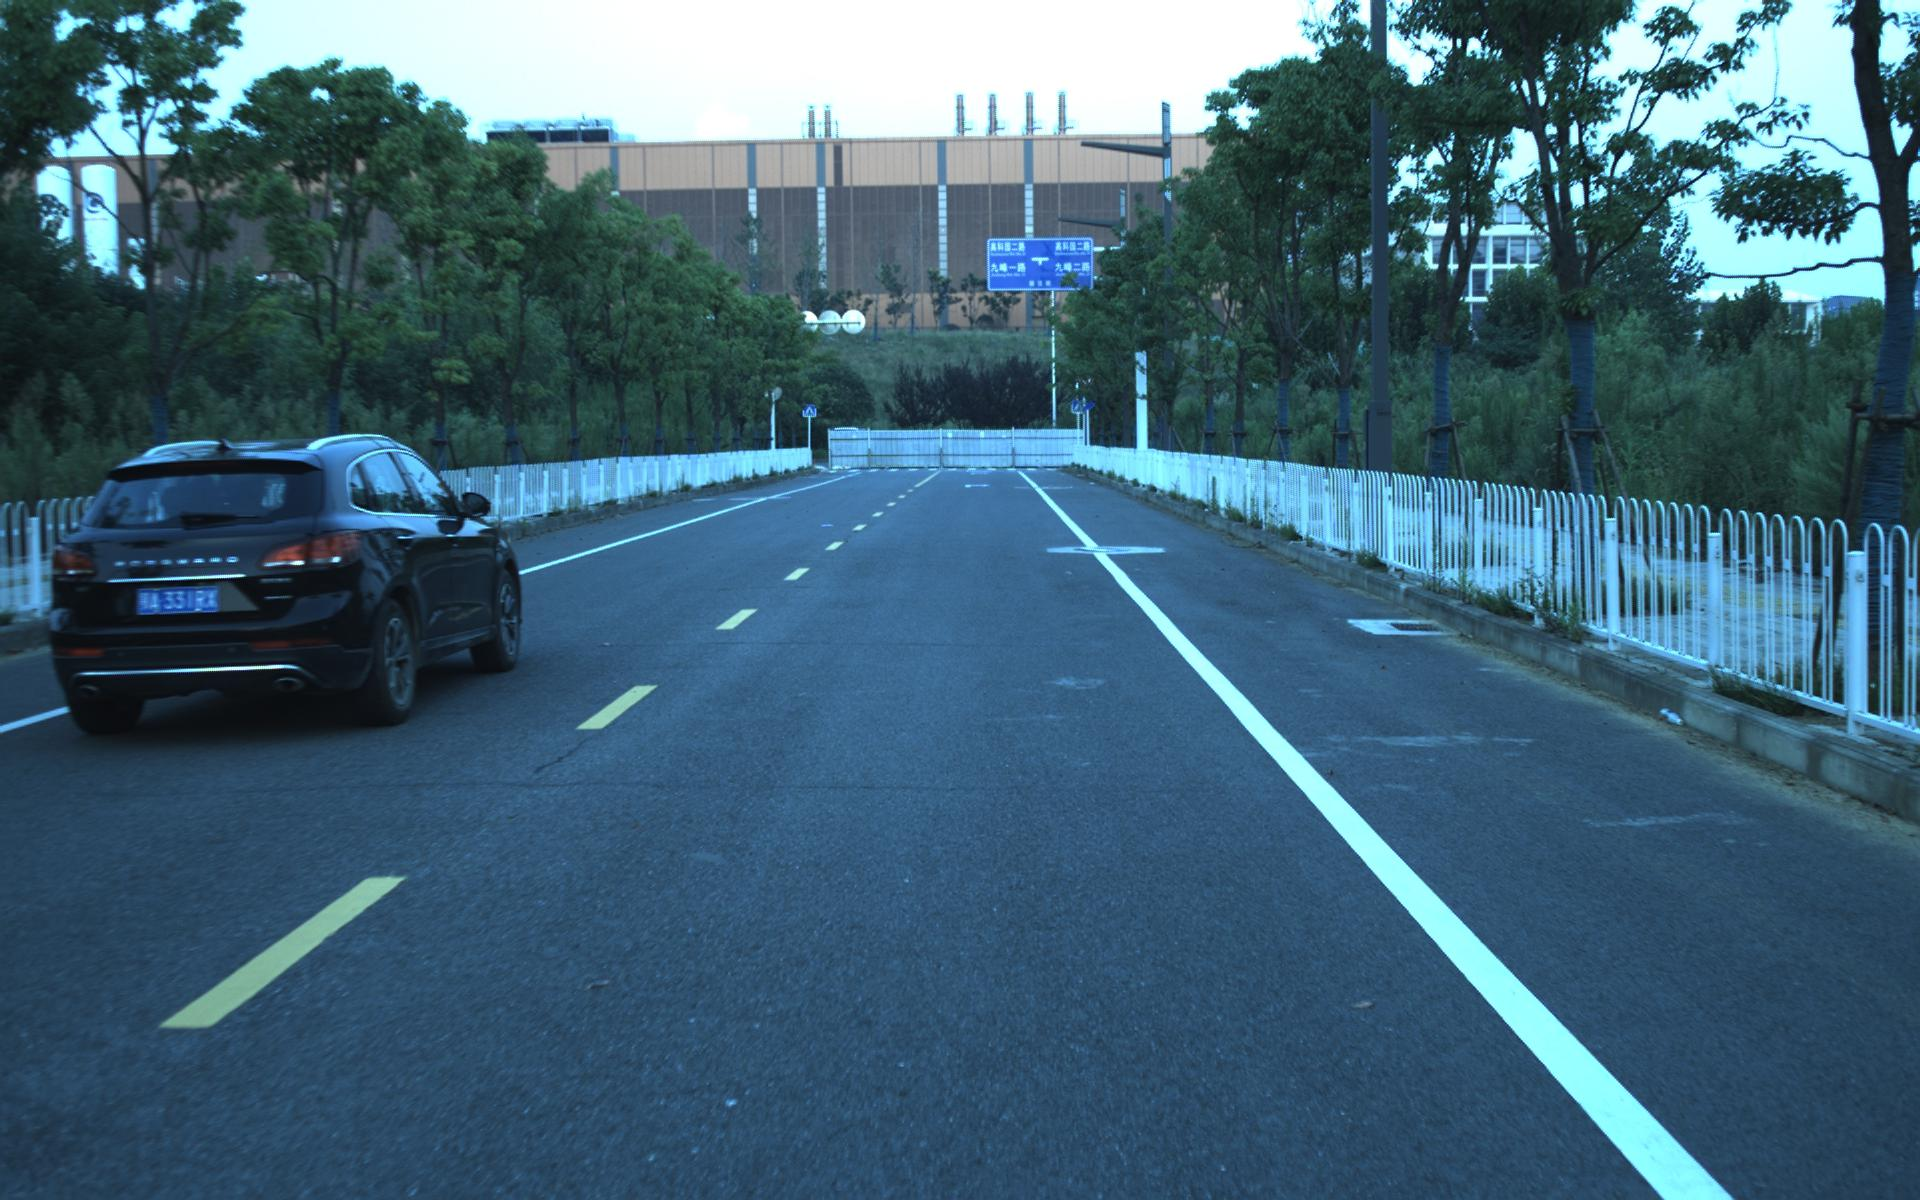Car: (28, 422, 527, 740)
